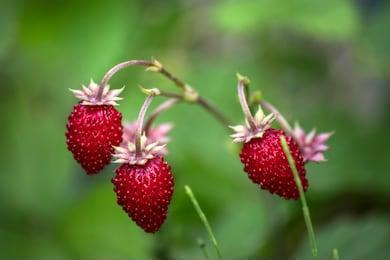Fresa: (234, 113, 320, 204), (105, 145, 187, 240), (60, 82, 133, 182)
